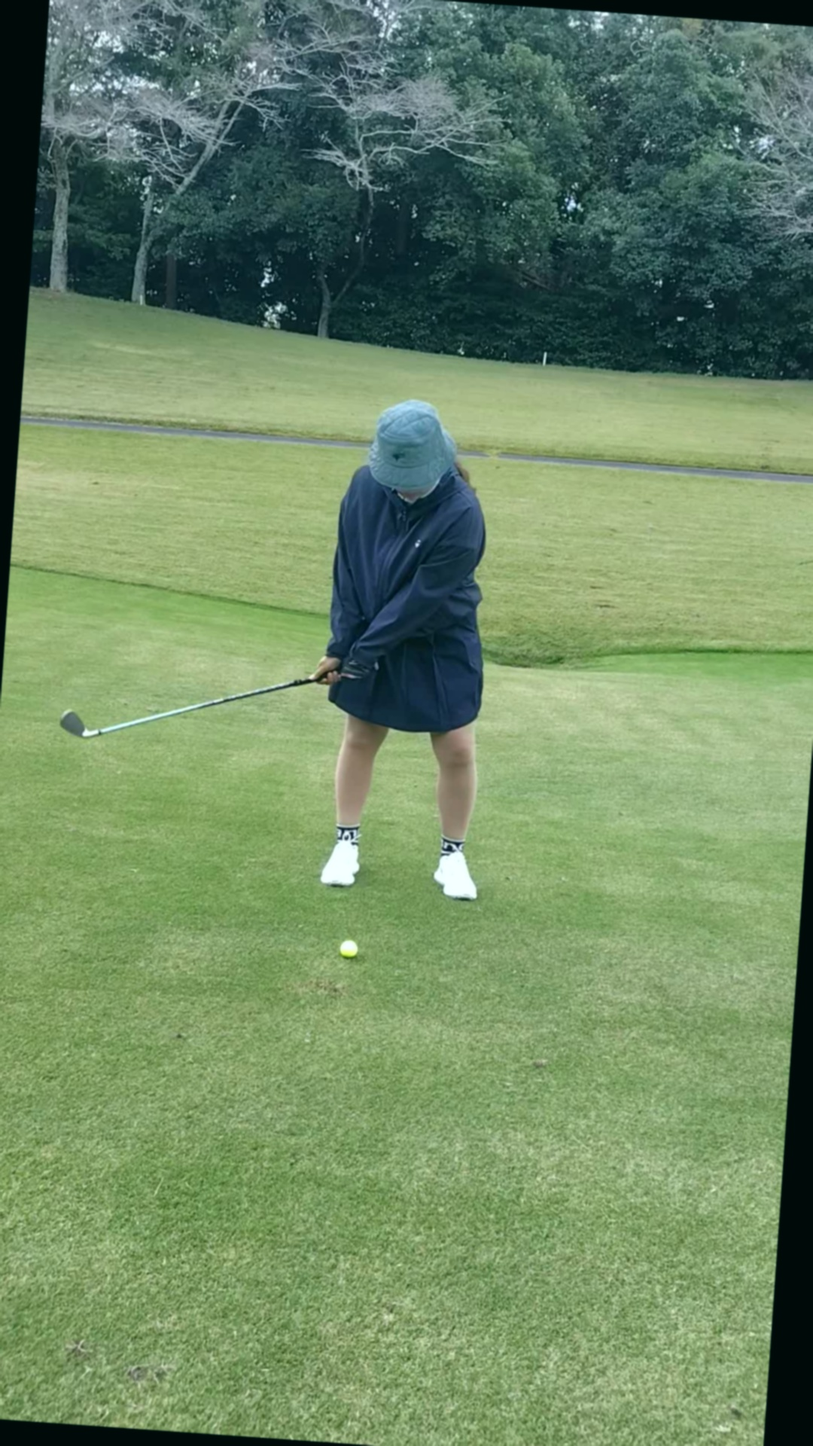clubhead: (26, 682, 143, 820)
